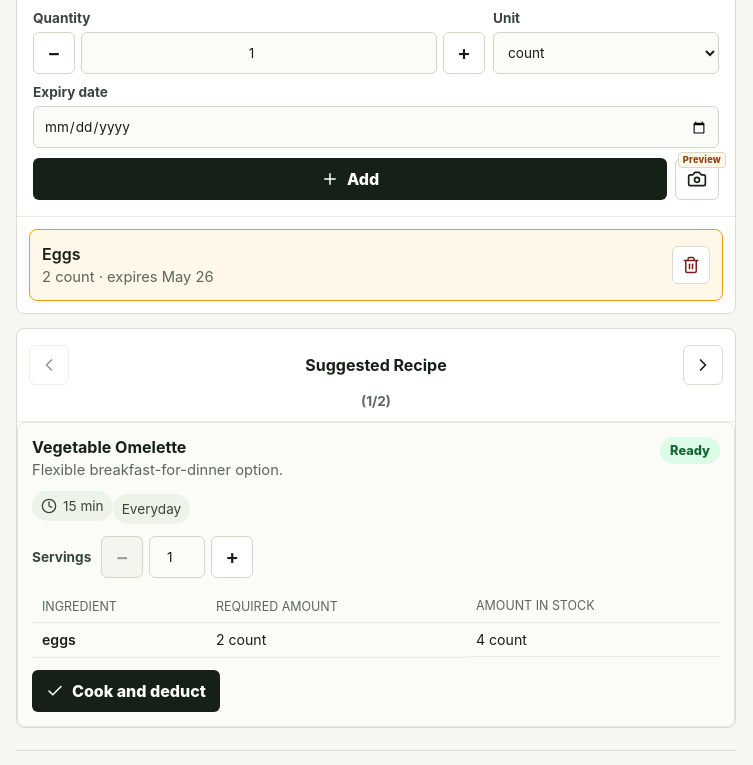
Test: App › disables cook action when ingredients are missing
The width and height of the screenshot is (753, 765).
(page scrolled)
Check: the heading "Vegetable Omelette" is shown, box [32, 437, 186, 457]
Check: the button "Cook and deduct" is enabled, box [32, 670, 220, 712]
What coordinates should you click on to do the following:
click the button named "Next recipe"
I would click on:
 (703, 365)
Its box is [683, 345, 723, 385].
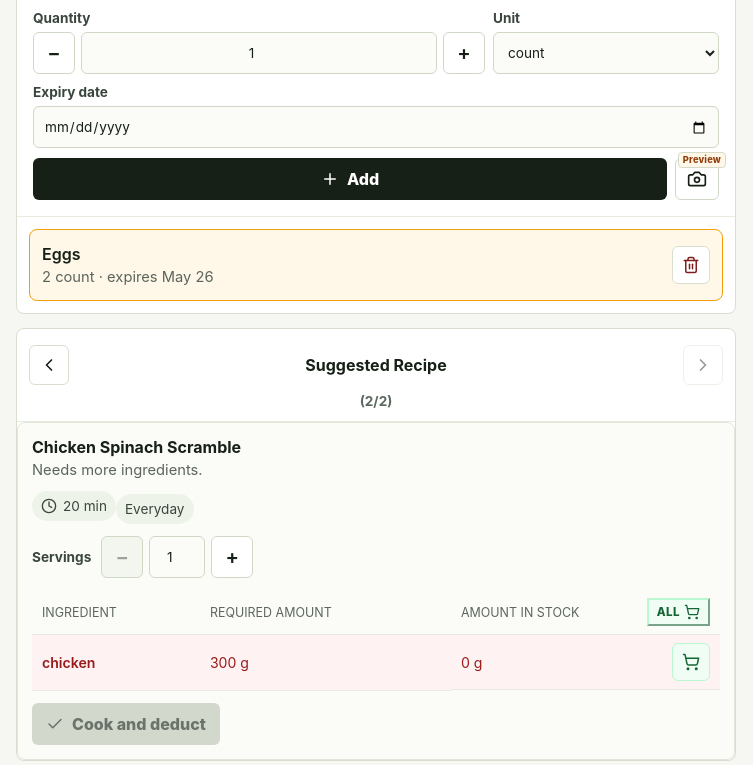
Check: the heading "Chicken Spinach Scramble" is shown, box [32, 437, 241, 457]
Check: the button "Cook and deduct" is disabled, box [32, 703, 220, 745]
Check: the button with aria-label "Add all missing ingredients to shopping list" reads "ALL", box [647, 598, 710, 626]
